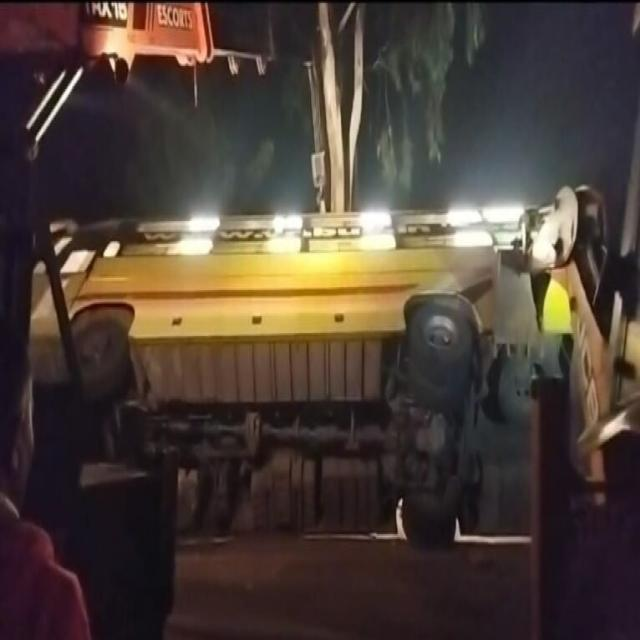accident: (30, 207, 521, 544)
